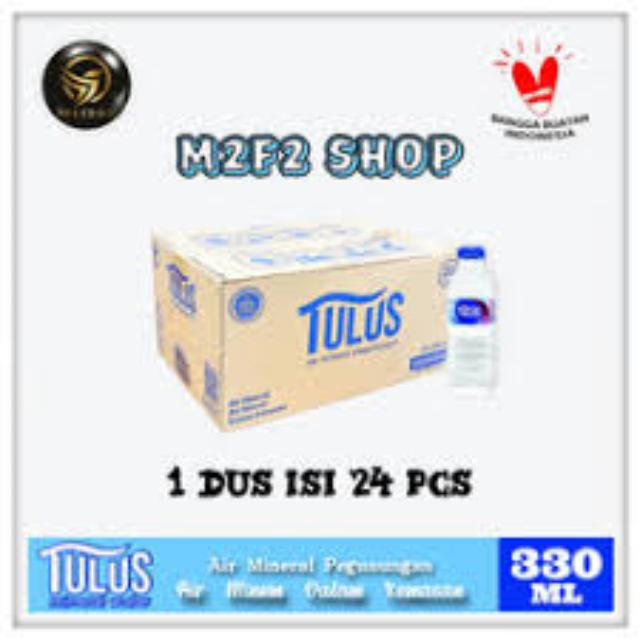trash: (442, 242, 506, 396)
